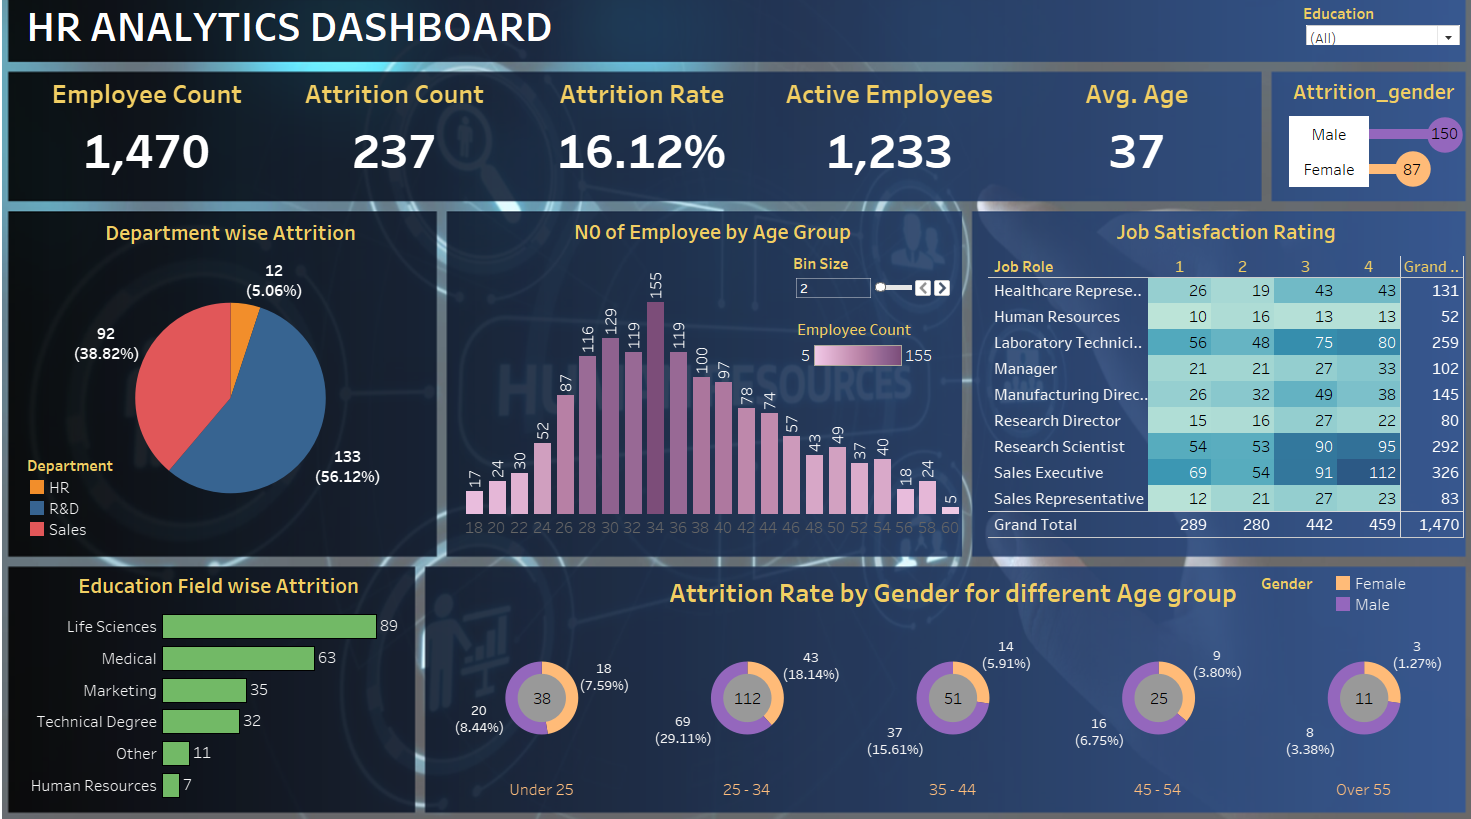

This screenshot's page, from the dashboard's own definition file:
{"tool":"tableau","page":{"name":"HR ANALYTICS DASHBOARD","canvas":[1920,1080],"ordinal":0},"visuals":[{"type":"filter","title":"Department wise Attrition","param":"[federated.0zql0jg0exbzc11a9sp2b0lok58a].[none:Education:nk]","box":[1371,49,160,42]},{"type":"text","box":[83,52,549,37]},{"type":"worksheet","title":"KPI","mark":"Automatic","box":[91,116,1238,118]},{"type":"worksheet","title":"Attrition_gender","mark":"Automatic","rows":["Gender"],"cols":["Calculation_1170654458189697027","Calculation_1170654458189697027"],"box":[1357,119,178,114]},{"type":"worksheet","title":"N0 of Employee by Age Group","mark":"Automatic","rows":["Employee Count"],"cols":["Age (bin)"],"box":[531,259,499,326]},{"type":"worksheet","title":"Job Satisfaction Rating","mark":"Square","rows":["Job Role"],"cols":["Job Satisfaction"],"box":[1056,259,478,327]},{"type":"worksheet","title":"Department wise Attrition","mark":"Pie","box":[96,260,405,325]},{"type":"parameter","param":"[Parameters].[Parameter 1]","box":[861,299,160,61]},{"type":"legend","title":"N0 of Employee by Age Group","param":"[federated.0zql0jg0exbzc11a9sp2b0lok58a].[sum:Employee Count:qk]","box":[865,365,140,62]},{"type":"legend","title":"Department wise Attrition","param":"[federated.0zql0jg0exbzc11a9sp2b0lok58a].[none:Department:nk]","box":[95,501,140,85]},{"type":"worksheet","title":"Education Field wise Attrition","mark":"Automatic","rows":["Education Field"],"cols":["Calculation_1170654458189697027"],"box":[90,613,393,234]},{"type":"worksheet","title":"Attrition Rate by Gender for different Age group","mark":"Pie","rows":["Calculation_1170654458360705031","Calculation_1170654458360705031"],"cols":["CF_age band"],"box":[507,617,1028,230]},{"type":"legend","title":"Attrition Rate by Gender for different Age group","param":"[federated.0zql0jg0exbzc11a9sp2b0lok58a].[none:Gender:nk]","box":[1329,619,322,42]}]}

Visuals, with their boxes in screenshot pixels (x1, y1, x2, y2), scaled from the page's 1920x1080 canvas onto the 1471x819 screenshot:
"Department wise Attrition" filter: x1=1050 y1=37 x2=1173 y2=69
text: x1=64 y1=39 x2=484 y2=67
"KPI" worksheet: x1=70 y1=88 x2=1018 y2=177
"Attrition_gender" worksheet: x1=1040 y1=90 x2=1176 y2=177
"N0 of Employee by Age Group" worksheet: x1=407 y1=196 x2=789 y2=444
"Job Satisfaction Rating" worksheet (Square marks): x1=809 y1=196 x2=1175 y2=444
"Department wise Attrition" worksheet (Pie marks): x1=74 y1=197 x2=384 y2=444
parameter: x1=660 y1=227 x2=782 y2=273
"N0 of Employee by Age Group" legend: x1=663 y1=277 x2=770 y2=324
"Department wise Attrition" legend: x1=73 y1=380 x2=180 y2=444
"Education Field wise Attrition" worksheet: x1=69 y1=465 x2=370 y2=642
"Attrition Rate by Gender for different Age group" worksheet (Pie marks): x1=388 y1=468 x2=1176 y2=642
"Attrition Rate by Gender for different Age group" legend: x1=1018 y1=469 x2=1265 y2=501
